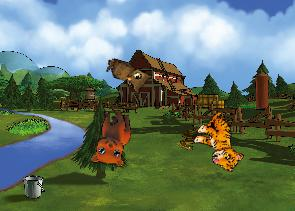bear: (89, 108, 131, 167)
owl: (101, 57, 153, 96)
tiger: (186, 107, 256, 175)
